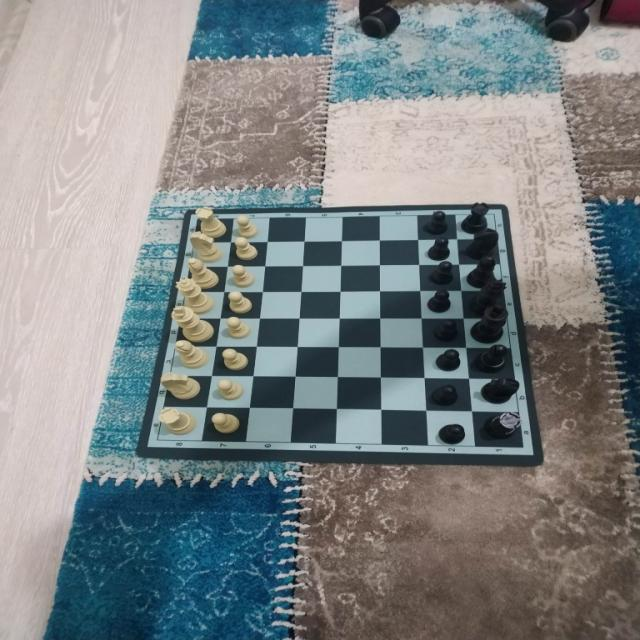corner: (514, 440, 531, 452), (150, 434, 166, 446), (191, 214, 204, 225), (486, 210, 501, 219)
